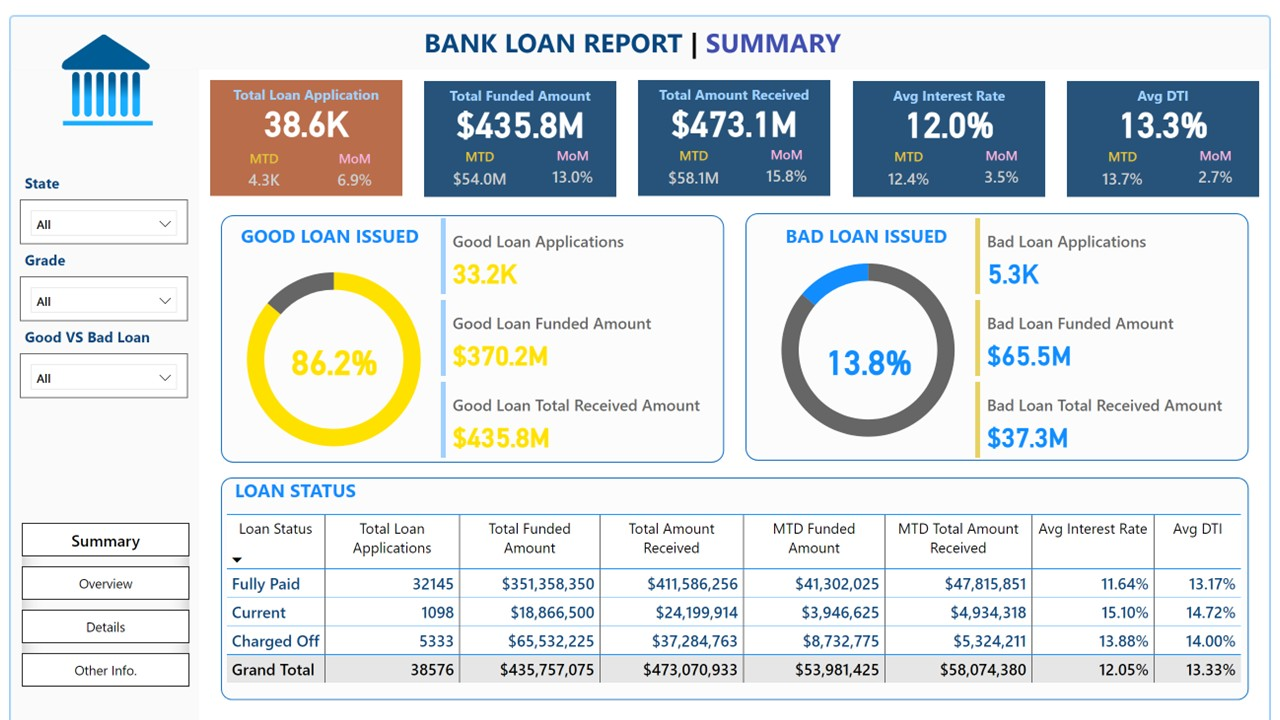

What the dashboard file says about the page in this screenshot:
{"tool":"powerbi","page":{"name":"Summary","canvas":[1280,720],"ordinal":0},"visuals":[{"type":"shape","box":[0,0,1280,720.2],"z":0},{"type":"shape","box":[638.4,65.8,195,117.5],"z":0,"group":"g2"},{"type":"shape","box":[203.8,66.2,195,117.5],"z":0,"group":"g1"},{"type":"shape","box":[420.5,67,195,117.5],"z":0,"group":"g5"},{"type":"shape","box":[856.2,67,195,117.5],"z":0,"group":"g3"},{"type":"shape","box":[1072.8,67,195,117.5],"z":0,"group":"g4"},{"type":"card","fields":{"Values":["bank_loan_data.Total Amount Received"]},"box":[638.4,83.3,195,47.5],"z":1000,"group":"g2"},{"type":"card","fields":{"Values":["bank_loan_data.Total Loan Applications"]},"box":[203.8,83.7,195,47.5],"z":1000,"group":"g1"},{"type":"card","fields":{"Values":["bank_loan_data.Total Funded Amount"]},"box":[420.5,84.5,195,47.5],"z":1000,"group":"g5"},{"type":"card","fields":{"Values":["bank_loan_data.Avg Interest Rate"]},"box":[856.2,84.5,195,47.5],"z":1000,"group":"g3"},{"type":"card","fields":{"Values":["bank_loan_data.Avg DTI"]},"box":[1072.8,84.5,195,47.5],"z":1000,"group":"g4"},{"type":"shape","box":[746.8,201.5,510.3,250.9],"z":1000},{"type":"textbox","box":[638.4,65.8,195,35],"z":2000,"group":"g2"},{"type":"textbox","box":[203.8,66.2,195,35],"z":2000,"group":"g1"},{"type":"textbox","box":[420.5,67,195,35],"z":2000,"group":"g5"},{"type":"textbox","box":[856.2,67,195,35],"z":2000,"group":"g3"},{"type":"textbox","box":[1072.8,67,195,35],"z":2000,"group":"g4"},{"type":"shape","box":[214.7,202.7,510.3,250.9],"z":2000},{"type":"card","title":"MTD","fields":{"Values":["bank_loan_data.MTD Total Amount Received"]},"box":[660.6,133,68.8,50],"z":3000,"group":"g2"},{"type":"card","title":"MTD","fields":{"Values":["bank_loan_data.MTD Funded Amount"]},"box":[442.7,134.2,68.8,50],"z":3000,"group":"g5"},{"type":"card","title":"MTD","fields":{"Values":["bank_loan_data.MTD Avg Interest Rate"]},"box":[878.4,134.2,68.8,50],"z":3000,"group":"g3"},{"type":"card","title":"MTD","fields":{"Values":["bank_loan_data.MTD Avg DIT"]},"box":[1095,134.2,68.8,50],"z":3000,"group":"g4"},{"type":"card","title":"MTD","fields":{"Values":["bank_loan_data.MTD Loan Applications"]},"box":[227.6,136.2,61.2,47.5],"z":3000,"group":"g1"},{"type":"shape","box":[214.7,469.3,1042.4,225.6],"z":3000},{"type":"card","title":"MoM","fields":{"Values":["bank_loan_data.MoM Total Amount Received"]},"box":[758.1,131.7,61.2,47.5],"z":4000,"group":"g2"},{"type":"card","title":"MoM","fields":{"Values":["bank_loan_data.MoM Total Funded Amount"]},"box":[540.2,132.9,61.2,47.5],"z":4000,"group":"g5"},{"type":"card","title":"MoM","fields":{"Values":["bank_loan_data.MoM Avg Interest Rate"]},"box":[975.9,132.9,61.2,47.5],"z":4000,"group":"g3"},{"type":"card","title":"MoM","fields":{"Values":["bank_loan_data.MoM Avg DTI"]},"box":[1192.5,132.9,61.2,47.5],"z":4000,"group":"g4"},{"type":"card","title":"MoM","fields":{"Values":["bank_loan_data.MoM Loan Application"]},"box":[320,136.2,61.2,47.5],"z":4000,"group":"g1"},{"type":"donutChart","fields":{"Category":["bank_loan_data.Good VS Bad Loan"],"Y":["bank_loan_data.Total Loan Applications"]},"box":[203.9,234,250.9,230.4],"z":4000},{"type":"textbox","box":[224.4,206.3,202.7,36.2],"z":5000},{"type":"card","fields":{"Values":["bank_loan_data.Good Loan %"]},"box":[250.6,319.8,158,59.3],"z":6000},{"type":"cardVisual","fields":{"Data":["bank_loan_data.Good Loan Applications","bank_loan_data.Good Loan Funded Amount","bank_loan_data.Good Loan Total Received Amount"]},"box":[433.3,201.5,292.6,253.1],"z":7000},{"type":"donutChart","fields":{"Category":["bank_loan_data.Good VS Bad Loan"],"Y":["bank_loan_data.Total Loan Applications"]},"box":[745.7,224.9,250.6,229.6],"z":8000},{"type":"textbox","box":[769.7,206.3,199.1,36.2],"z":9000},{"type":"card","fields":{"Values":["bank_loan_data.Bad Loan %"]},"box":[792.6,319.8,158,59.3],"z":10000},{"type":"cardVisual","fields":{"Data":["bank_loan_data.Bad Loan Applications","bank_loan_data.Bad Loan Funded Amount","bank_loan_data.Bad Loan Total Received Amount"]},"box":[975.3,201.5,292.6,253.1],"z":11000},{"type":"tableEx","fields":{"Values":["bank_loan_data.loan_status","bank_loan_data.Total Loan Applications","bank_loan_data.Total Funded Amount","bank_loan_data.Total Amount Received","bank_loan_data.MTD Funded Amount","bank_loan_data.MTD Total Amount Received","bank_loan_data.Avg Interest Rate","bank_loan_data.Avg DTI"]},"box":[214.7,500.7,1042.4,194.2],"z":12000},{"type":"textbox","box":[224.4,464.5,184.6,36.2],"z":13000},{"type":"shape","box":[0,0,1280,55.5],"z":14000},{"type":"shape","box":[1.2,55.5,191.8,664.7],"z":15000},{"type":"textbox","box":[416.2,3.8,447.5,46.2],"z":16000},{"type":"slicer","fields":{"Values":["bank_loan_data.grade"]},"box":[11.1,265.1,170.4,45.7],"z":17000},{"type":"textbox","box":[11.1,155.2,69.1,32.1],"z":18000},{"type":"slicer","fields":{"Values":["bank_loan_data.address_state"]},"box":[11.1,187.3,170.4,45.7],"z":19000},{"type":"textbox","box":[11.1,233,69.1,32.1],"z":20000},{"type":"slicer","fields":{"Values":["bank_loan_data.Good VS Bad Loan"]},"box":[11.1,342.9,170.4,45.7],"z":21000},{"type":"textbox","box":[10.9,310.5,154.4,32.6],"z":22000},{"type":"pageNavigator","box":[13.3,515.2,170.1,166.5],"z":23000},{"type":"image","box":[30.2,2.4,131.5,127.9],"z":24000},{"type":"group","id":"g1","title":"Group 1","box":[203.8,66.2,195,117.5],"z":25000},{"type":"group","id":"g2","title":"Group 1","box":[638.4,65.8,196.1,118.9],"z":26000},{"type":"group","id":"g3","title":"Group 1","box":[856.2,67,194.8,118.9],"z":27000},{"type":"group","id":"g4","title":"Group 1","box":[1072.8,67,194.8,118.9],"z":28000},{"type":"group","id":"g5","title":"Group 1","box":[420.5,67,196.1,118.9],"z":29000}]}

Visuals, with their boxes in screenshot pixels (x1, y1, x2, y2), scaled from the page's 1280x720 canvas onto the 1280x720 screenshot:
shape: detection(0, 0, 1279, 719)
shape: detection(638, 66, 833, 183)
shape: detection(204, 66, 399, 184)
shape: detection(420, 67, 616, 184)
shape: detection(856, 67, 1051, 184)
shape: detection(1073, 67, 1268, 184)
card - bank_loan_data.Total Amount Received: detection(638, 83, 833, 131)
card - bank_loan_data.Total Loan Applications: detection(204, 84, 399, 131)
card - bank_loan_data.Total Funded Amount: detection(420, 84, 616, 132)
card - bank_loan_data.Avg Interest Rate: detection(856, 84, 1051, 132)
card - bank_loan_data.Avg DTI: detection(1073, 84, 1268, 132)
shape: detection(747, 202, 1257, 452)
textbox: detection(638, 66, 833, 101)
textbox: detection(204, 66, 399, 101)
textbox: detection(420, 67, 616, 102)
textbox: detection(856, 67, 1051, 102)
textbox: detection(1073, 67, 1268, 102)
shape: detection(215, 203, 725, 454)
"MTD" card: detection(661, 133, 729, 183)
"MTD" card: detection(443, 134, 512, 184)
"MTD" card: detection(878, 134, 947, 184)
"MTD" card: detection(1095, 134, 1164, 184)
"MTD" card: detection(228, 136, 289, 184)
shape: detection(215, 469, 1257, 695)
"MoM" card: detection(758, 132, 819, 179)
"MoM" card: detection(540, 133, 601, 180)
"MoM" card: detection(976, 133, 1037, 180)
"MoM" card: detection(1192, 133, 1254, 180)
"MoM" card: detection(320, 136, 381, 184)
donutChart - bank_loan_data.Good VS Bad Loan x bank_loan_data.Total Loan Applications: detection(204, 234, 455, 464)
textbox: detection(224, 206, 427, 242)
card - bank_loan_data.Good Loan %: detection(251, 320, 409, 379)
cardVisual - bank_loan_data.Good Loan Applications x bank_loan_data.Good Loan Funded Amount: detection(433, 202, 726, 455)
donutChart - bank_loan_data.Good VS Bad Loan x bank_loan_data.Total Loan Applications: detection(746, 225, 996, 454)
textbox: detection(770, 206, 969, 242)
card - bank_loan_data.Bad Loan %: detection(793, 320, 951, 379)
cardVisual - bank_loan_data.Bad Loan Applications x bank_loan_data.Bad Loan Funded Amount: detection(975, 202, 1268, 455)
tableEx - bank_loan_data.loan_status x bank_loan_data.Total Loan Applications: detection(215, 501, 1257, 695)
textbox: detection(224, 464, 409, 501)
shape: detection(0, 0, 1279, 56)
shape: detection(1, 56, 193, 719)
textbox: detection(416, 4, 864, 50)
slicer - bank_loan_data.grade: detection(11, 265, 182, 311)
textbox: detection(11, 155, 80, 187)
slicer - bank_loan_data.address_state: detection(11, 187, 182, 233)
textbox: detection(11, 233, 80, 265)
slicer - bank_loan_data.Good VS Bad Loan: detection(11, 343, 182, 389)
textbox: detection(11, 310, 165, 343)
pageNavigator: detection(13, 515, 183, 682)
image: detection(30, 2, 162, 130)
"Group 1" group: detection(204, 66, 399, 184)
"Group 1" group: detection(638, 66, 834, 185)
"Group 1" group: detection(856, 67, 1051, 186)
"Group 1" group: detection(1073, 67, 1268, 186)
"Group 1" group: detection(420, 67, 617, 186)
